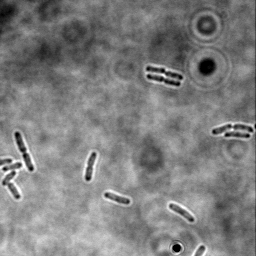Dividing: (12, 129, 36, 173), (144, 64, 185, 80), (145, 72, 182, 88), (211, 123, 255, 136), (84, 150, 99, 183)
Microcolony: (0, 155, 23, 201)
Rod: (167, 202, 197, 224), (102, 190, 132, 206), (223, 130, 252, 140)
